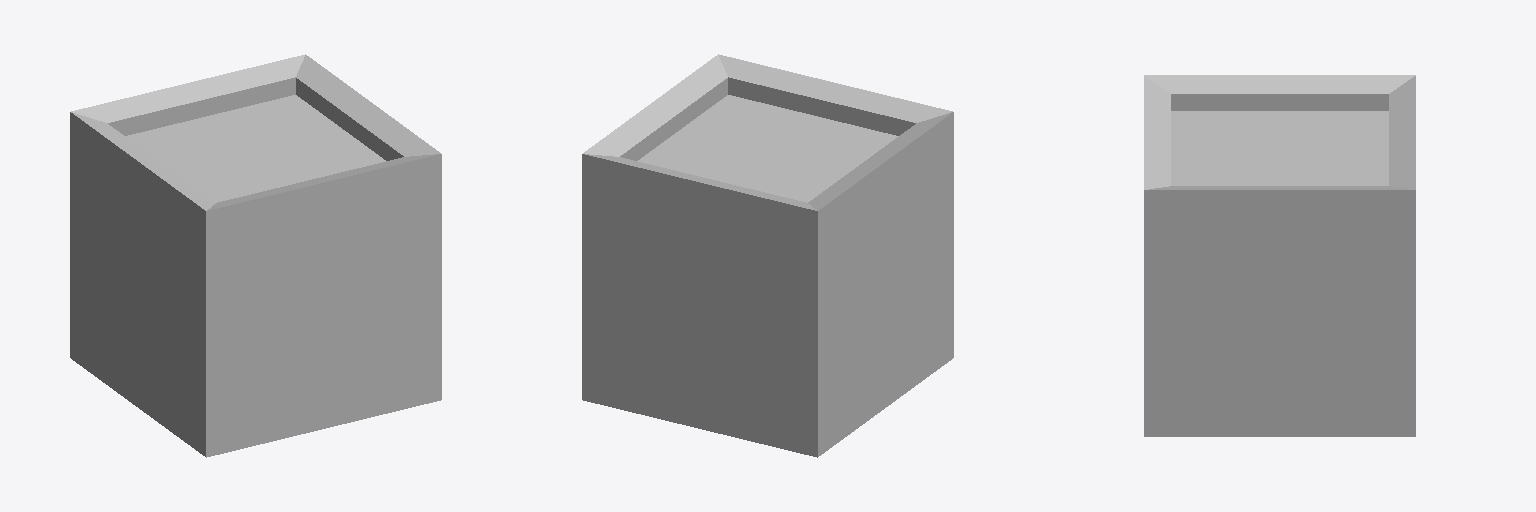
File: screenWhole.obj
3 views of the same model, side by side, from view 1: azimuth 30°, elevation 25°; view 2: azimuth 150°, elevation 25°; view 3: azimuth 270°, elevation 25° (orthographic).
Visible parts, largest first — view 1: main; view 2: main; view 3: main.
Part boxes in pixels (bbox=[...]): main: bbox=[70, 54, 441, 457]; main: bbox=[582, 54, 953, 457]; main: bbox=[1144, 75, 1415, 436].
Size of the model in its own units: 1 by 1 by 1.